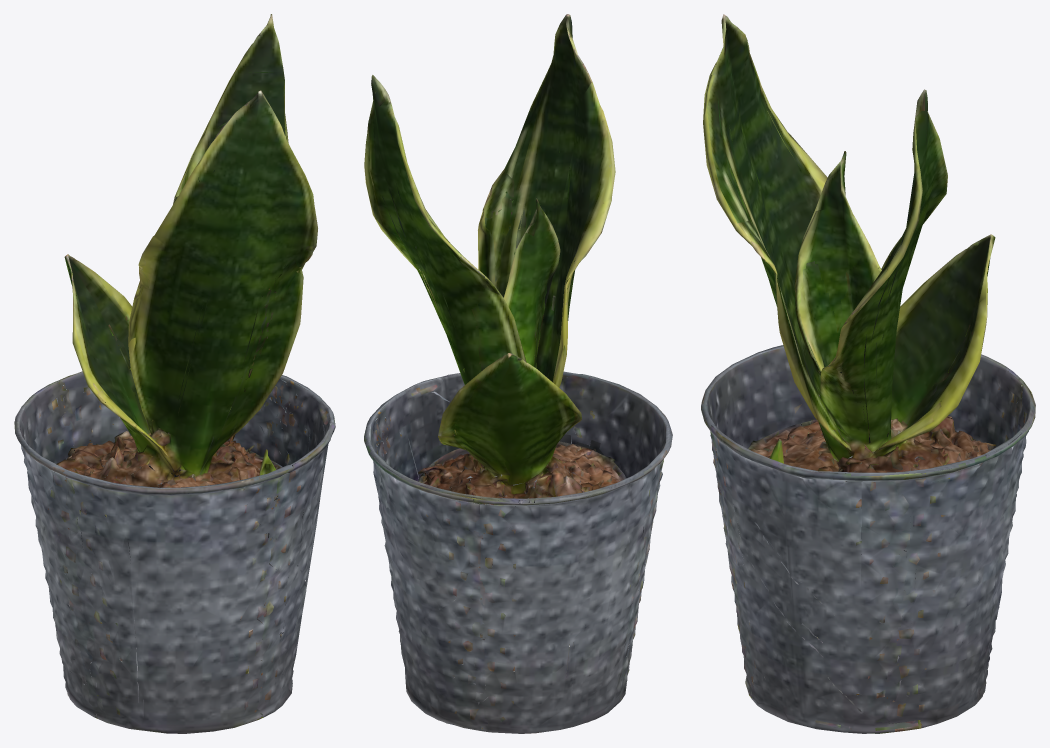
File: plante_sansevieria.glb
The picture shows the model from 3 angles, left to right: view 1: azimuth 30°, elevation 25°; view 2: azimuth 150°, elevation 25°; view 3: azimuth 270°, elevation 25°; orthographic projection. The views are drawn at different scales.
Visible parts, largest first — view 1: Object_7, Object_2; view 2: Object_7, Object_2; view 3: Object_7, Object_2.
Boxes of the visible parts, x1,y1,x2,y2 form: Object_7: (14, 371, 335, 733); Object_2: (56, 14, 317, 557); Object_7: (364, 371, 672, 733); Object_2: (364, 14, 626, 565); Object_7: (701, 345, 1035, 733); Object_2: (703, 14, 995, 472).
Size of the model in its own units: 0.2916 by 0.6492 by 0.291.
Materials: 2 (2 with a texture image).
